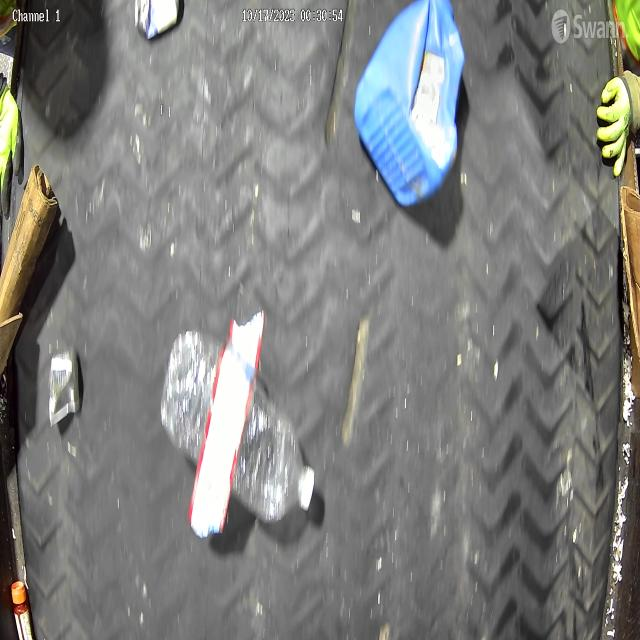can: (49, 348, 82, 428), (133, 1, 182, 42)
non_white_jug: (354, 1, 466, 208)
plastic_bottle: (161, 329, 315, 523)
